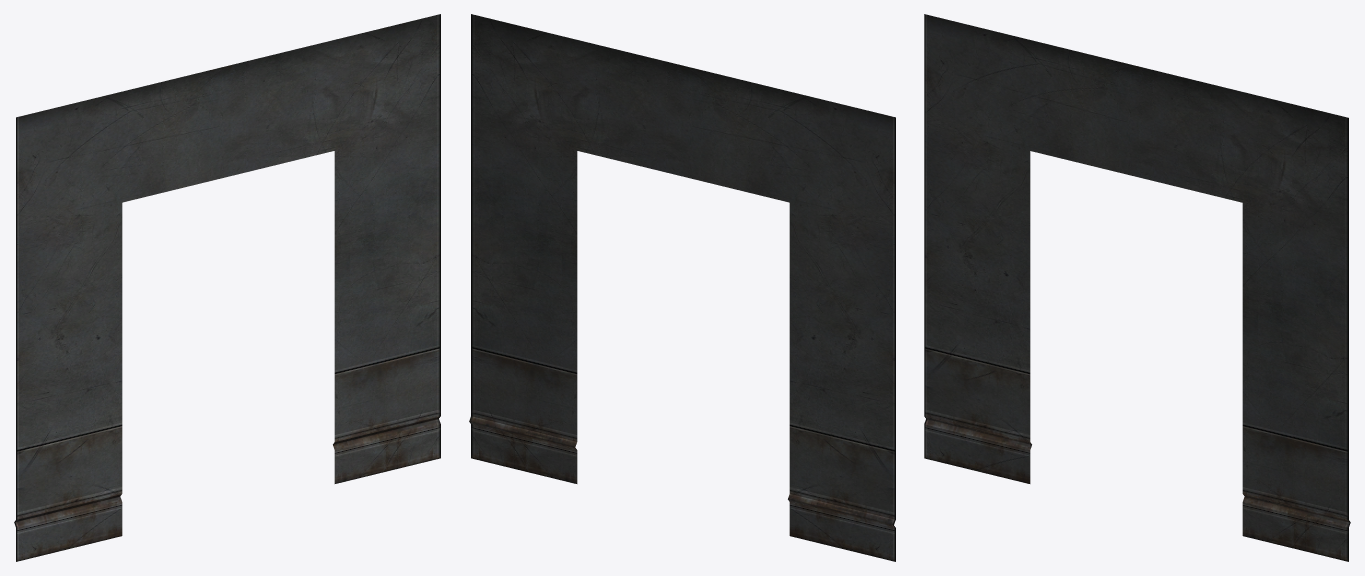
File: datasite_flat04_doorway.dae
3 views of the same model, side by side, from view 1: azimuth 30°, elevation 25°; view 2: azimuth 150°, elevation 25°; view 3: azimuth 330°, elevation 25° (orthographic).
Visible parts, largest first — view 1: pPlane3; view 2: pPlane3; view 3: pPlane3.
Boxes of the visible parts, <box> form: pPlane3: <box>14,14,440,561</box>; pPlane3: <box>469,14,895,561</box>; pPlane3: <box>924,14,1350,561</box>.
Bounding box in the file's own units: 4 × 4 × 0.0316.
